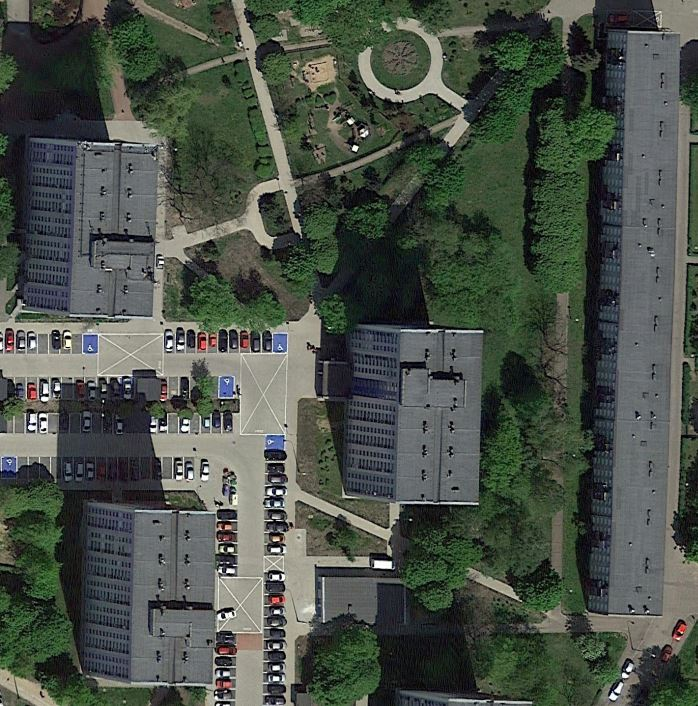block of flats: (579, 12, 691, 631), (60, 481, 227, 697), (5, 124, 174, 323), (329, 311, 496, 506)
